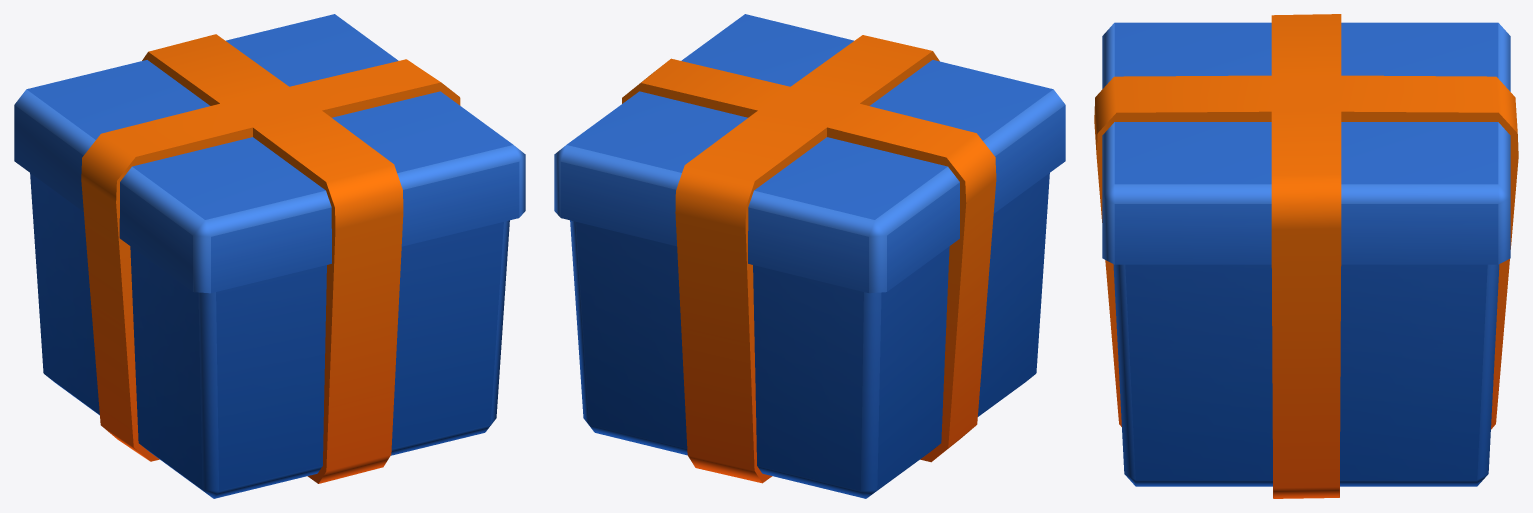
Rendered from giftbox_048.fbx.
The picture shows the model from 3 angles, left to right: view 1: azimuth 30°, elevation 25°; view 2: azimuth 150°, elevation 25°; view 3: azimuth 270°, elevation 25°; orthographic projection. The views are drawn at different scales.
Visible parts, largest first — view 1: giftbox_048; view 2: giftbox_048; view 3: giftbox_048.
Boxes of the visible parts, box(x1,y1,x2,y2) form: giftbox_048: box(14, 14, 525, 498); giftbox_048: box(554, 14, 1065, 498); giftbox_048: box(1094, 14, 1518, 498).
Bounding box in the file's own units: 181 × 179 × 155.
